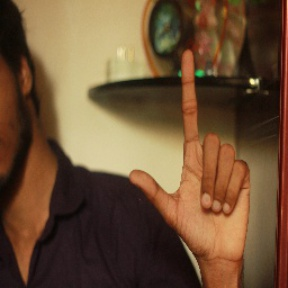L: (127, 51, 251, 260)
